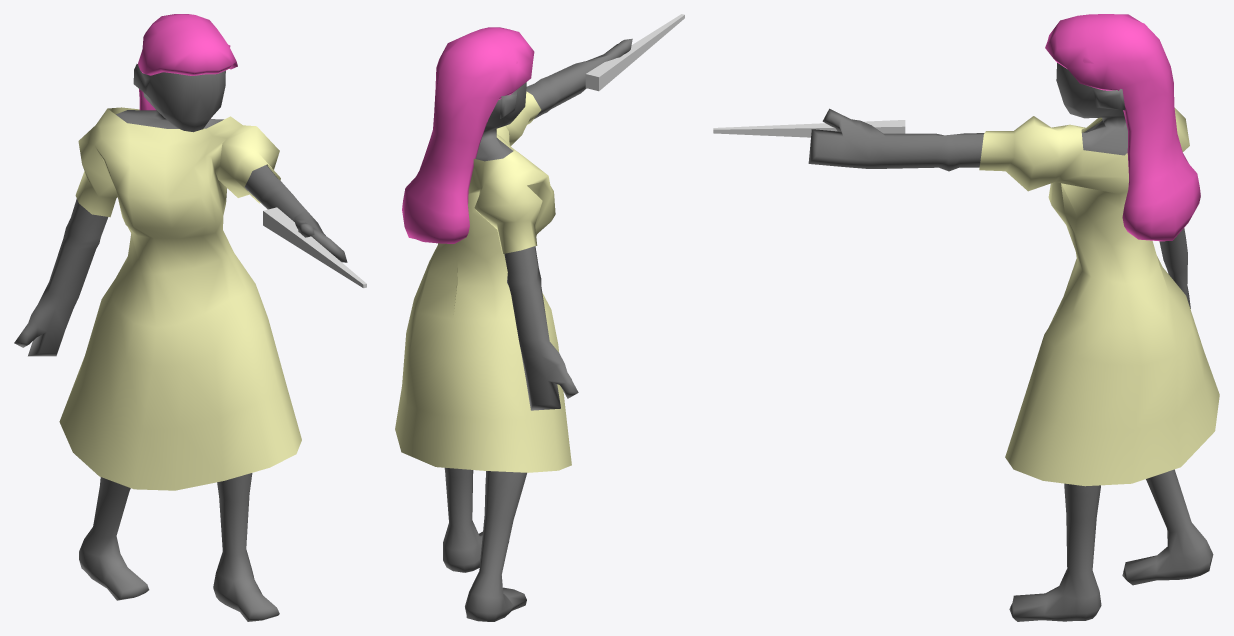
File: Statue.fbx
3 views of the same model, side by side, from view 1: azimuth 30°, elevation 25°; view 2: azimuth 150°, elevation 25°; view 3: azimuth 270°, elevation 25° (orthographic). The views are drawn at different scales.
Parts seen in each view (by area): view 1: Dress, Skin, Hair, stick; view 2: Dress, Skin, Hair, stick; view 3: Dress, Skin, Hair, stick.
Part boxes in pixels (<box>): Dress: <box>59,107,301,490</box>; Skin: <box>14,64,347,621</box>; Hair: <box>138,14,237,110</box>; stick: <box>263,207,366,288</box>; Dress: <box>395,91,571,472</box>; Skin: <box>443,38,632,621</box>; Hair: <box>402,27,534,243</box>; stick: <box>585,14,684,91</box>; Dress: <box>979,108,1219,486</box>; Skin: <box>808,62,1213,621</box>; Hair: <box>1045,14,1200,241</box>; stick: <box>713,120,905,137</box>.
Bounding box in the file's own units: 73.4 × 179 × 141.
